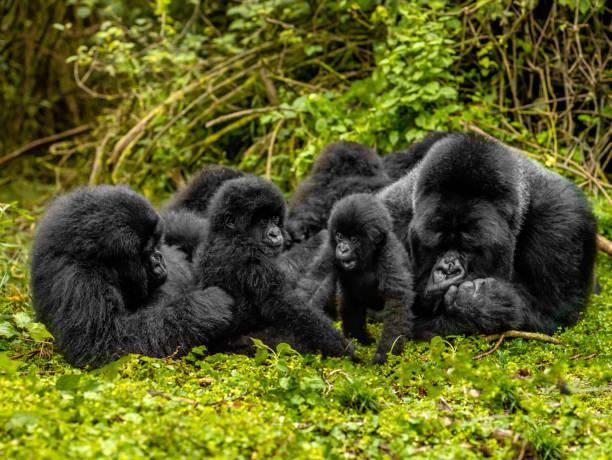goriile_montagne: (403, 135, 595, 329), (40, 176, 193, 352), (209, 181, 320, 344), (315, 190, 409, 336)
